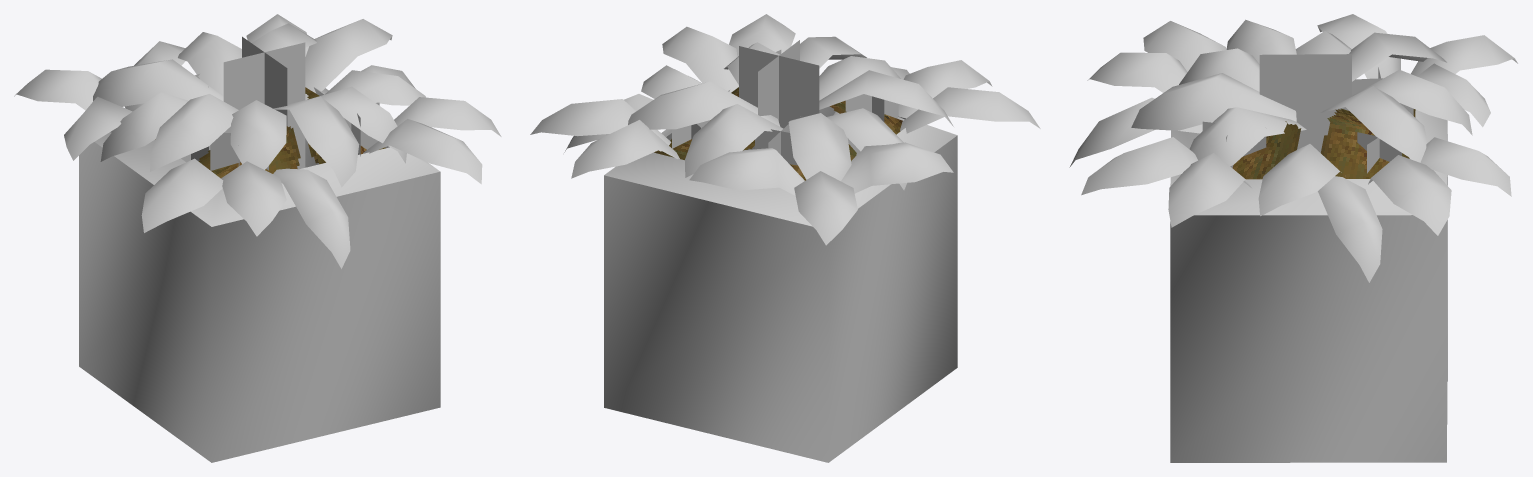
The model's file is butterflygarden.obj.
3 renders of one model, left to right at view 1: azimuth 30°, elevation 25°; view 2: azimuth 150°, elevation 25°; view 3: azimuth 270°, elevation 25°, orthographic. The views are drawn at different scales.
Parts seen in each view (by area): view 1: Duplicate03, Duplicate08, Duplicate11, Duplicate02, Duplicate09, Duplicate01, Duplicate06, Duplicate10, Duplicate00, Duplicate04, Triangles, Duplicate05 (+2 smaller); view 2: Duplicate03, Duplicate08, Duplicate10, Duplicate01, Duplicate02, Duplicate11, Triangles, Duplicate04, Duplicate00, Duplicate09, Duplicate05, Duplicate12 (+2 smaller); view 3: Duplicate03, Duplicate08, Duplicate09, Duplicate10, Duplicate01, Duplicate02, Box03, Duplicate11, Duplicate07, Duplicate00, Duplicate05, Duplicate04 (+2 smaller).
Part boxes in pixels (x1=…): Duplicate03: x1=79, y1=14, x2=440, y2=462; Duplicate08: x1=93, y1=36, x2=305, y2=169; Duplicate11: x1=150, y1=94, x2=379, y2=171; Duplicate02: x1=141, y1=158, x2=286, y2=236; Duplicate09: x1=181, y1=74, x2=406, y2=187; Duplicate01: x1=125, y1=41, x2=482, y2=184; Duplicate06: x1=273, y1=168, x2=350, y2=268; Duplicate10: x1=178, y1=23, x2=316, y2=96; Duplicate00: x1=394, y1=97, x2=501, y2=136; Duplicate04: x1=14, y1=69, x2=101, y2=110; Triangles: x1=64, y1=96, x2=132, y2=160; Duplicate05: x1=325, y1=70, x2=425, y2=105; Duplicate03: x1=530, y1=90, x2=957, y2=462; Duplicate08: x1=739, y1=40, x2=906, y2=190; Duplicate10: x1=628, y1=81, x2=783, y2=177; Duplicate01: x1=689, y1=14, x2=804, y2=195; Duplicate02: x1=897, y1=60, x2=1040, y2=133; Duplicate11: x1=776, y1=50, x2=953, y2=126; Triangles: x1=841, y1=142, x2=953, y2=193; Duplicate04: x1=794, y1=171, x2=857, y2=245; Duplicate00: x1=662, y1=26, x2=738, y2=92; Duplicate09: x1=724, y1=36, x2=866, y2=165; Duplicate05: x1=641, y1=65, x2=702, y2=98; Duplicate12: x1=845, y1=94, x2=898, y2=154; Duplicate03: x1=1170, y1=110, x2=1511, y2=462; Duplicate08: x1=1259, y1=31, x2=1446, y2=152; Duplicate09: x1=1131, y1=67, x2=1413, y2=174; Duplicate10: x1=1321, y1=69, x2=1472, y2=173; Duplicate01: x1=1081, y1=63, x2=1490, y2=195; Duplicate02: x1=1087, y1=21, x2=1226, y2=92; Box03: x1=1232, y1=108, x2=1415, y2=179; Duplicate11: x1=1179, y1=19, x2=1296, y2=167; Duplicate07: x1=1318, y1=176, x2=1382, y2=282; Duplicate00: x1=1168, y1=153, x2=1251, y2=227; Duplicate05: x1=1258, y1=144, x2=1341, y2=216; Duplicate04: x1=1411, y1=35, x2=1517, y2=76.
Size of the model in its own units: 52.25 by 43.68 by 50.59.
